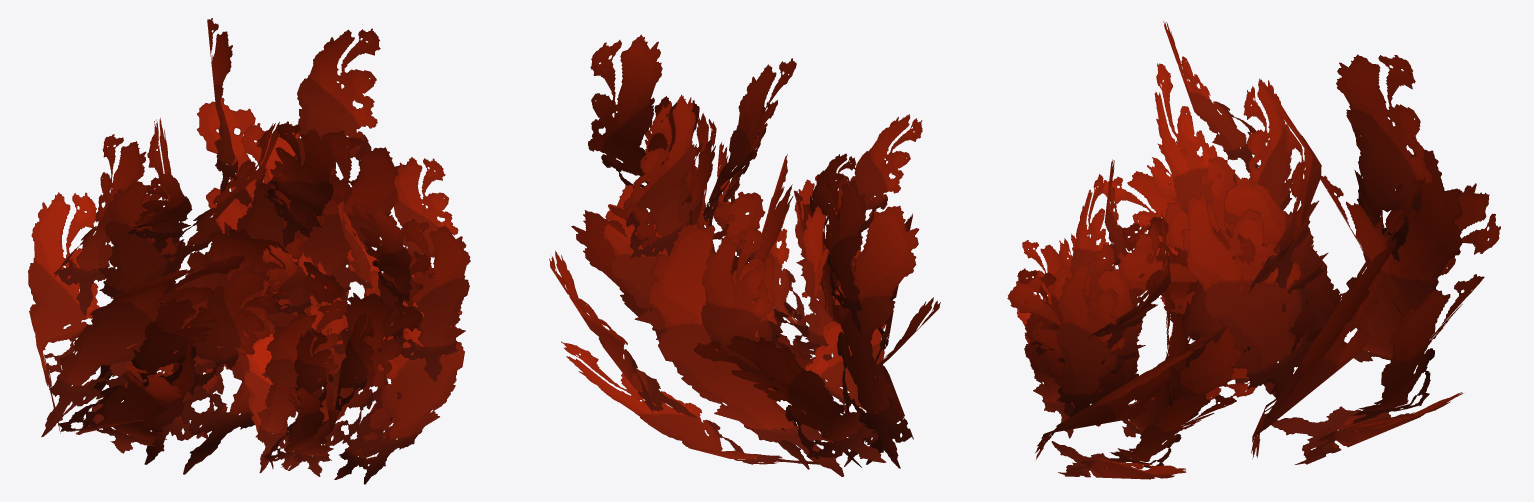
Rendered from Red Algae 4_preview_3DS_simplified.glb.
3 renders of one model, left to right at view 1: azimuth 30°, elevation 25°; view 2: azimuth 150°, elevation 25°; view 3: azimuth 270°, elevation 25°, orthographic. The views are drawn at different scales.
Parts seen in each view (by area): view 1: Marine Park Empire model; view 2: Marine Park Empire model; view 3: Marine Park Empire model.
Part boxes in pixels (x1,y1,x2,y2): Marine Park Empire model: (28,18,470,484); Marine Park Empire model: (549,34,940,476); Marine Park Empire model: (1007,21,1500,479).
Bounding box in the file's own units: 157 × 164 × 154.
1 material, 1 textured.
